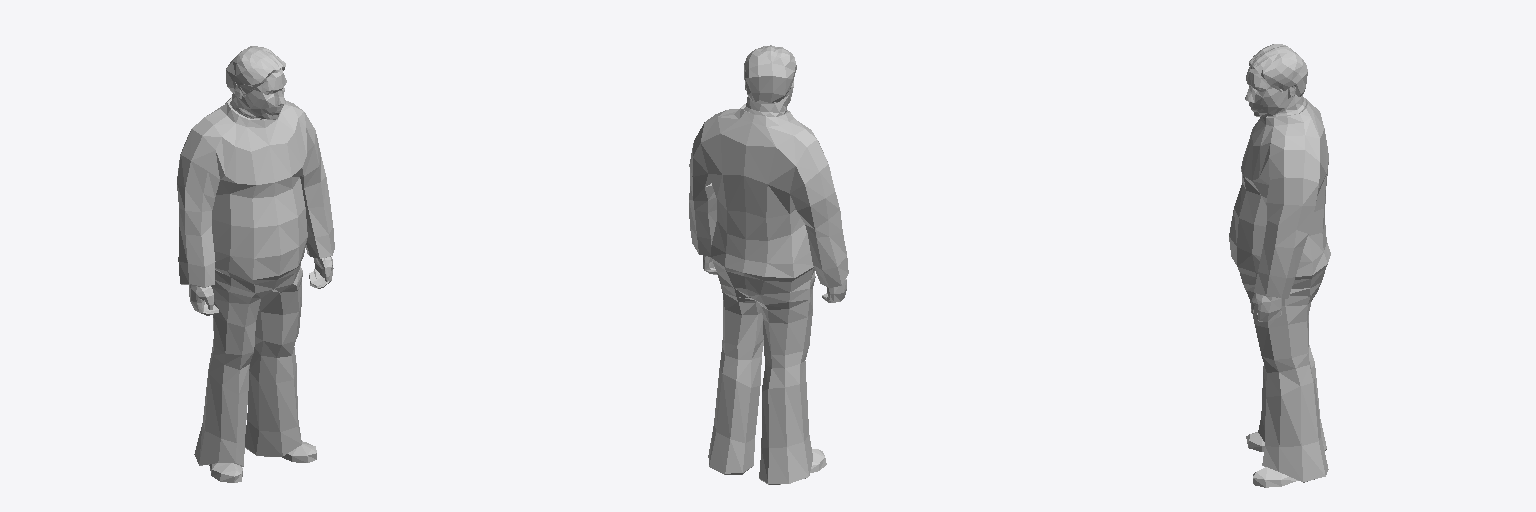
File: person.obj
3 views of the same model, side by side, from view 1: azimuth 30°, elevation 25°; view 2: azimuth 150°, elevation 25°; view 3: azimuth 270°, elevation 25° (orthographic).
Parts seen in each view (by area): view 1: maglia_omino.008; view 2: maglia_omino.008; view 3: maglia_omino.008.
Part boxes in pixels (left/top/right/bottom): maglia_omino.008: left=177, top=46, right=334, bottom=482; maglia_omino.008: left=689, top=45, right=848, bottom=484; maglia_omino.008: left=1229, top=44, right=1330, bottom=487.
Bounding box in the file's own units: 1.96 × 5.18 × 1.16.